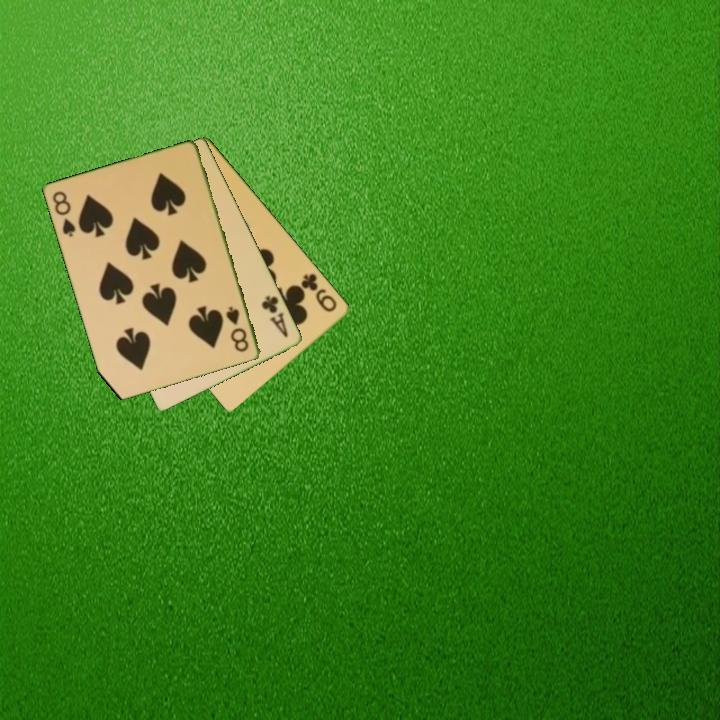8s: (49, 188, 79, 240), (223, 303, 252, 355)
9c: (298, 270, 340, 315)
Ac: (258, 292, 291, 340)
